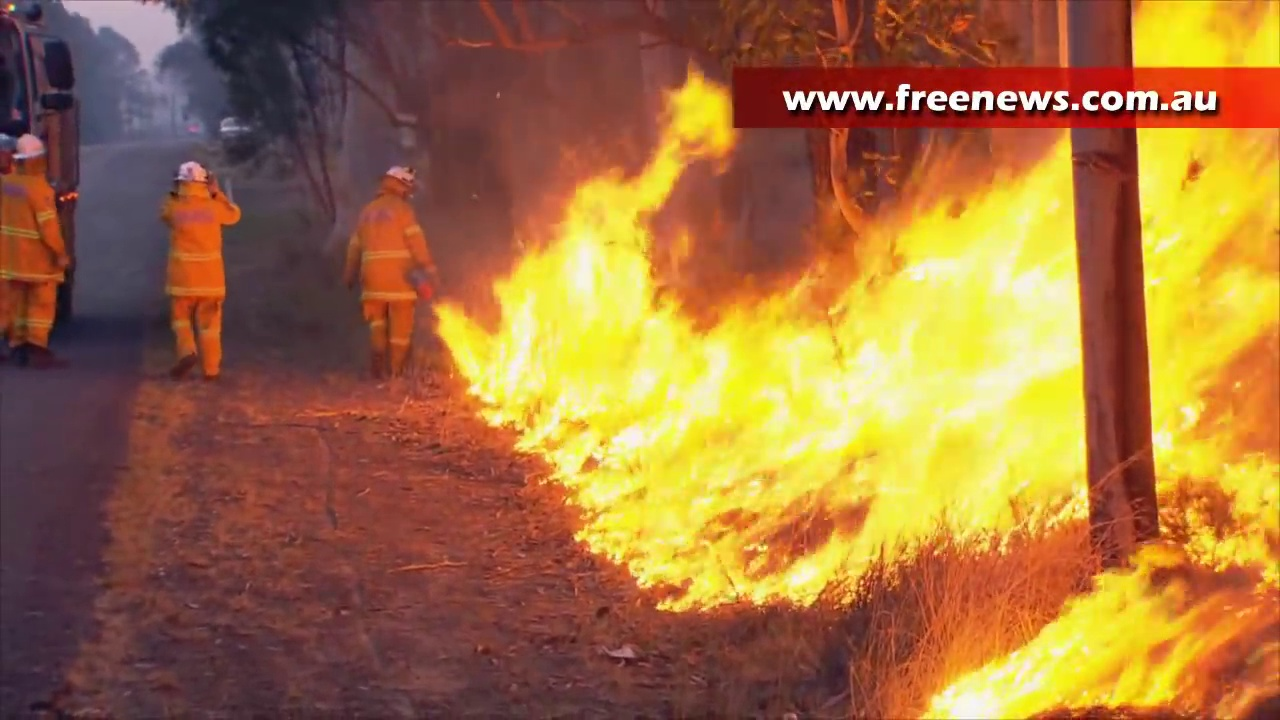fire: (434, 128, 1075, 609), (922, 533, 1279, 720), (1144, 128, 1280, 528)
